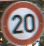20 km speed: (1, 1, 44, 45)
